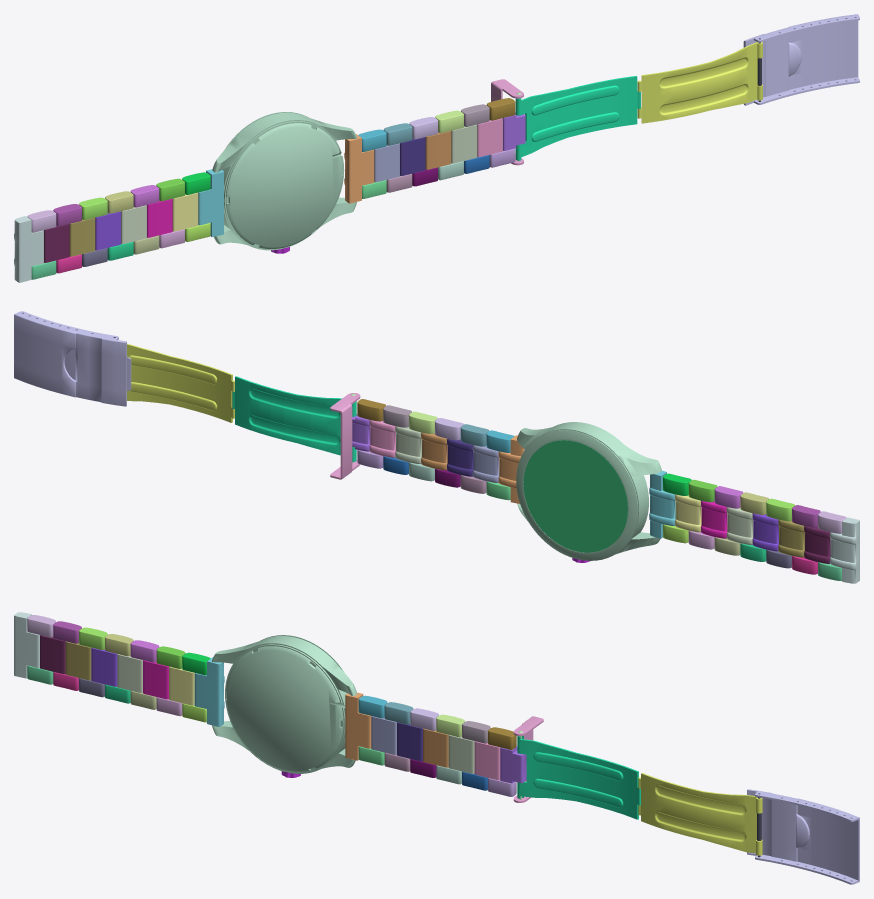
3 views of the same model, one above another, from view 1: azimuth 30°, elevation 25°; view 2: azimuth 150°, elevation 25°; view 3: azimuth 330°, elevation 25° (orthographic).
Visible parts, largest first — view 1: Object_9.008, split_parent_5, split_parent_0, split_parent_9, Object_9.386, Object_9.243, Object_9.314, Object_9.306, Object_9.362, Object_9.302, Object_9.378, Object_9.294 (+12 smaller); view 2: Object_13, split_parent_5, Object_9.008, split_parent_9, split_parent_0, Object_9.386, split_parent_6, Object_9.314, Object_9.243, Object_9.370, Object_9.294, Object_9.298 (+9 smaller); view 3: Object_9.008, split_parent_5, split_parent_0, split_parent_9, Object_9.314, Object_9.243, Object_9.386, Object_9.378, Object_9.310, Object_9.306, Object_9.374, Object_9.366 (+8 smaller).
Part boxes in pixels (x1,y1,x2,y2): Object_9.008: (212, 112, 356, 250); split_parent_5: (743, 14, 859, 105); split_parent_0: (637, 42, 762, 123); split_parent_9: (515, 76, 640, 160); Object_9.386: (14, 216, 43, 282); Object_9.243: (344, 134, 374, 203); Object_9.314: (198, 169, 223, 236); Object_9.306: (451, 124, 477, 163); Object_9.362: (172, 192, 198, 231); Object_9.302: (425, 131, 451, 169); Object_9.378: (69, 217, 95, 256); Object_9.294: (374, 143, 399, 182); Object_13: (523, 440, 627, 552); split_parent_5: (14, 311, 131, 406); Object_9.008: (516, 422, 661, 560); split_parent_9: (232, 376, 356, 461); split_parent_0: (127, 343, 234, 422); Object_9.386: (830, 517, 859, 583); split_parent_6: (330, 393, 360, 479); Object_9.314: (649, 470, 675, 538); Object_9.243: (498, 435, 524, 503); Object_9.370: (726, 507, 753, 544); Object_9.294: (472, 445, 499, 482); Object_9.298: (447, 439, 473, 476); Object_9.008: (212, 635, 356, 773); split_parent_5: (747, 789, 859, 884); split_parent_0: (638, 773, 762, 855); split_parent_9: (517, 735, 640, 819); Object_9.314: (194, 657, 224, 726); Object_9.243: (345, 692, 371, 760); Object_9.386: (14, 612, 39, 678); Object_9.378: (65, 641, 91, 680); Object_9.310: (474, 741, 500, 780); Object_9.306: (448, 735, 474, 773); Object_9.374: (91, 648, 117, 686); Object_9.366: (143, 660, 168, 699).
Size of the model in its own units: 1 by 0.1516 by 0.0514.
